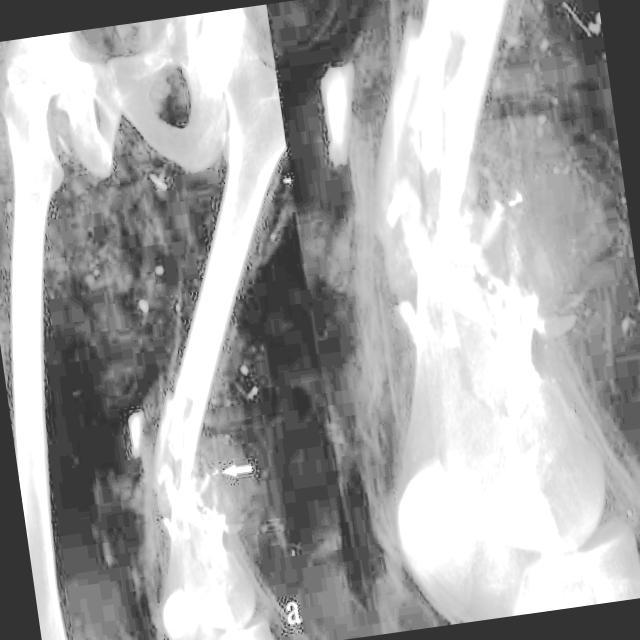Comminuted Fracture: (134, 380, 256, 546)
